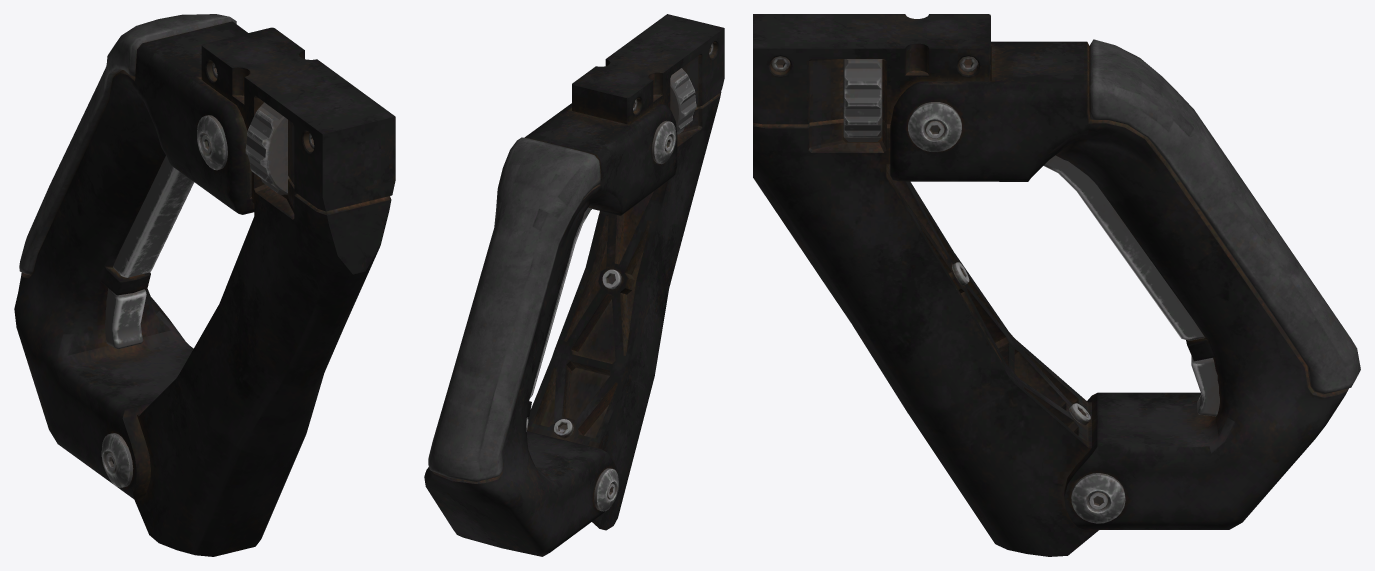
File: Grip_1.glb
3 renders of one model, left to right at view 1: azimuth 30°, elevation 25°; view 2: azimuth 150°, elevation 25°; view 3: azimuth 270°, elevation 25°, orthographic. The views are drawn at different scales.
Parts seen in each view (by area): view 1: Grip_1; view 2: Grip_1; view 3: Grip_1.
Part boxes in pixels (x1,y1,x2,y2): Grip_1: (14, 14, 395, 556); Grip_1: (424, 14, 724, 556); Grip_1: (753, 14, 1360, 556).
Size of the model in its own units: 0.0532 by 0.1835 by 0.201.
Materials: 1 (1 with a texture image).
